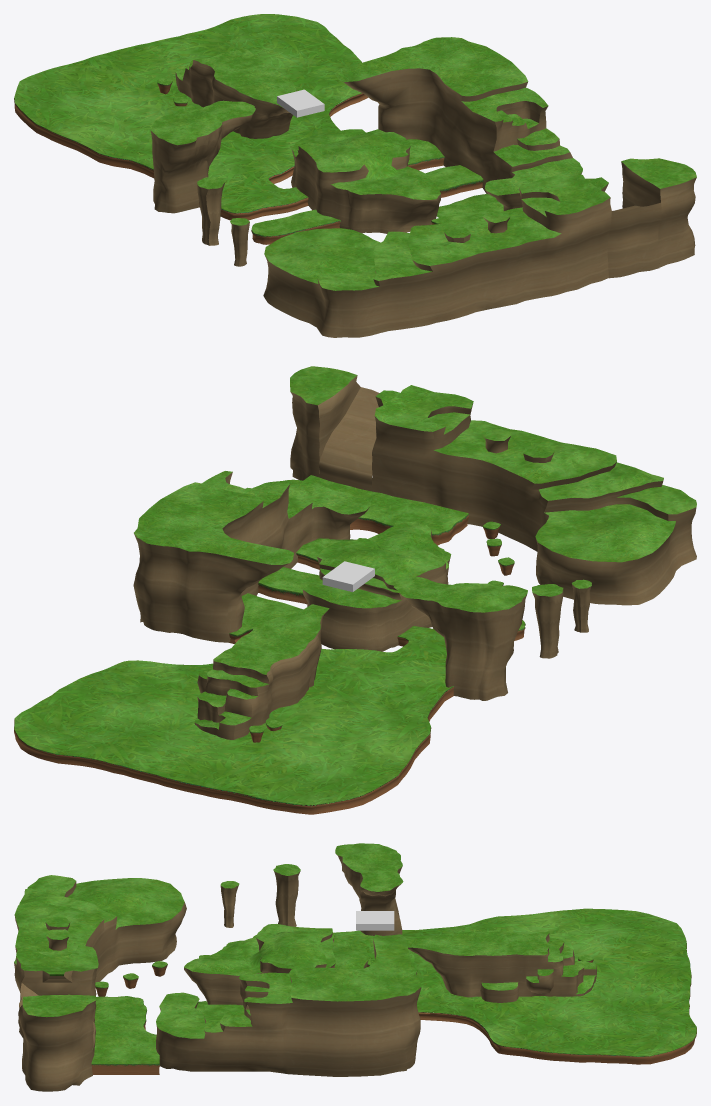
File: lvl 1 test plat.FBX
The picture shows the model from 3 angles, top to bottom: view 1: azimuth 30°, elevation 25°; view 2: azimuth 150°, elevation 25°; view 3: azimuth 270°, elevation 25°; orthographic projection. The views are drawn at different scales.
Parts seen in each view (by area): view 1: lvl1_plat007_grass, lvl1_plat_020, lvl1_plat_020_grass, lvl1_plat_016, lvl1_plat_016_grass, lvl1_plat_015, lvl1_plat_015_grass, lvl1_plat_017, lvl1_platf_014, lvl1_platf_014_grass, lvl1_plat007, lvl1_plat_017_grass (+8 smaller); view 2: lvl1_plat007_grass, lvl1_plat_020, lvl1_plat_020_grass, lvl1_plat_016, lvl1_plat_016_grass, lvl1_plat_017, lvl1_plat_015_grass, lvl1_platf_014, lvl1_platf_014_grass, lvl1_plat_015, lvl1_plat007, lvl1_plat_017_grass (+7 smaller); view 3: lvl1_plat007_grass, lvl1_plat_016, lvl1_plat_020_grass, lvl1_plat_020, lvl1_plat_016_grass, lvl1_platf_014, lvl1_plat_015_grass, lvl1_platf_014_grass, lvl1_plat002_grass, lvl1_plat007, lvl1_plat_017_grass, lvl1_plat_015 (+5 smaller).
Boxes of the visible parts, x1,y1,x2,y2 form: lvl1_plat007_grass: (14, 14, 361, 212); lvl1_plat_020: (263, 162, 696, 337); lvl1_plat_020_grass: (264, 158, 696, 290); lvl1_plat_016: (341, 68, 582, 210); lvl1_plat_016_grass: (334, 37, 582, 195); lvl1_plat_015: (291, 146, 440, 233); lvl1_plat_015_grass: (291, 129, 440, 199); lvl1_plat_017: (150, 112, 254, 213); lvl1_platf_014: (175, 60, 296, 138); lvl1_platf_014_grass: (176, 48, 296, 107); lvl1_plat007: (14, 93, 367, 220); lvl1_plat_017_grass: (151, 100, 255, 145); lvl1_plat007_grass: (14, 626, 452, 804); lvl1_plat_020: (290, 375, 696, 605); lvl1_plat_020_grass: (290, 366, 696, 562); lvl1_plat_016: (133, 472, 369, 642); lvl1_plat_016_grass: (134, 471, 371, 564); lvl1_plat_017: (403, 594, 526, 700); lvl1_plat_015_grass: (303, 521, 451, 608); lvl1_platf_014: (194, 609, 328, 739); lvl1_platf_014_grass: (194, 604, 329, 729); lvl1_plat_015: (302, 530, 450, 651); lvl1_plat007: (14, 636, 453, 814); lvl1_plat_017_grass: (393, 577, 527, 612); lvl1_plat007_grass: (334, 908, 696, 1056); lvl1_plat_016: (156, 939, 421, 1076); lvl1_plat_020_grass: (14, 875, 184, 1017); lvl1_plat_020: (14, 881, 186, 1091); lvl1_plat_016_grass: (156, 934, 421, 1038); lvl1_platf_014: (408, 933, 596, 1002); lvl1_plat_015_grass: (184, 924, 368, 975); lvl1_platf_014_grass: (406, 930, 596, 994); lvl1_plat002_grass: (91, 996, 159, 1063); lvl1_plat007: (367, 941, 696, 1064); lvl1_plat_017_grass: (335, 843, 403, 891); lvl1_plat_015: (184, 933, 367, 1005).
Size of the model in its own units: 7433 by 1588 by 12234.
